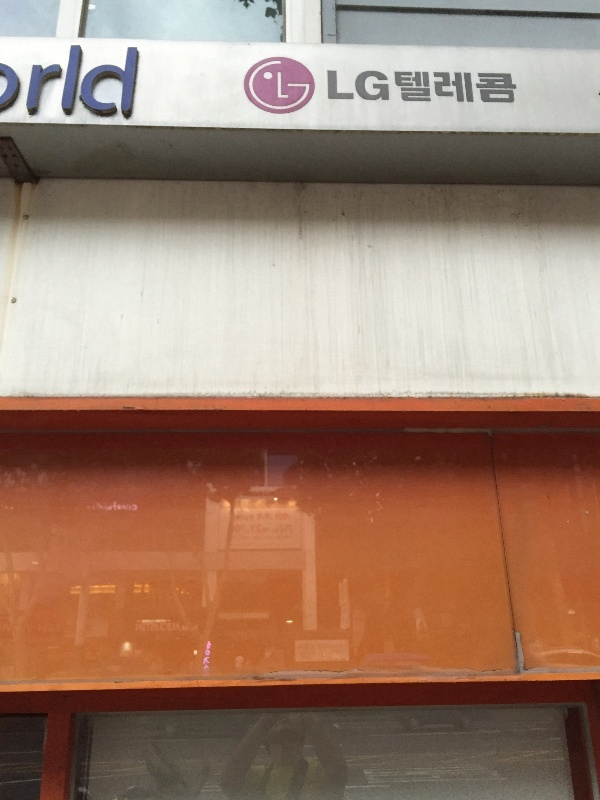text: (33, 36, 48, 125), (49, 36, 64, 125), (65, 36, 80, 125), (81, 36, 96, 125), (97, 36, 112, 125), (113, 36, 128, 125), (129, 36, 142, 125), (257, 55, 272, 119), (273, 55, 288, 119), (289, 55, 304, 119), (1, 62, 16, 117), (401, 67, 416, 108), (417, 67, 432, 108), (433, 67, 448, 108), (449, 67, 464, 108), (465, 67, 480, 108), (481, 67, 496, 108), (497, 67, 512, 108), (337, 67, 352, 105), (353, 67, 368, 105), (369, 67, 384, 105), (250, 55, 256, 119), (305, 55, 311, 119), (326, 67, 336, 105), (393, 67, 400, 108), (385, 67, 392, 105), (513, 67, 519, 108), (17, 62, 21, 117), (97, 502, 112, 515), (113, 502, 128, 515), (241, 526, 256, 537), (257, 526, 272, 537), (273, 526, 288, 537), (273, 512, 289, 521), (241, 512, 256, 521), (257, 512, 272, 521), (129, 502, 139, 515), (234, 526, 240, 537), (235, 512, 240, 521), (289, 526, 293, 537), (93, 502, 96, 515)
